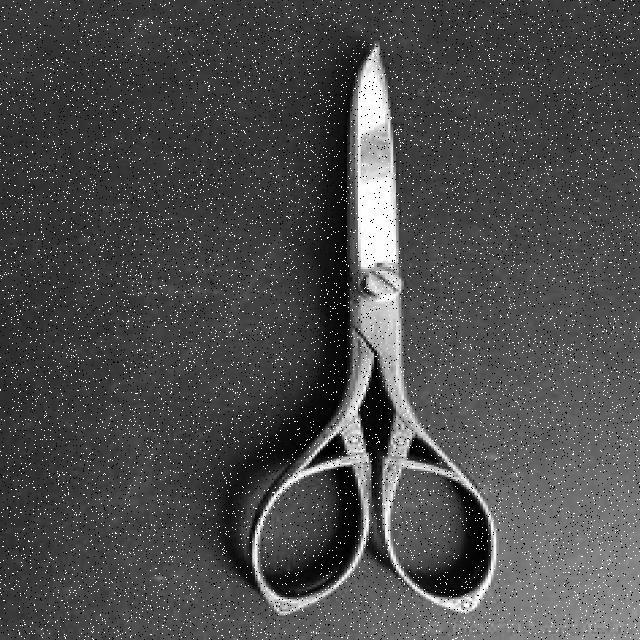scissors: (238, 40, 508, 624)
